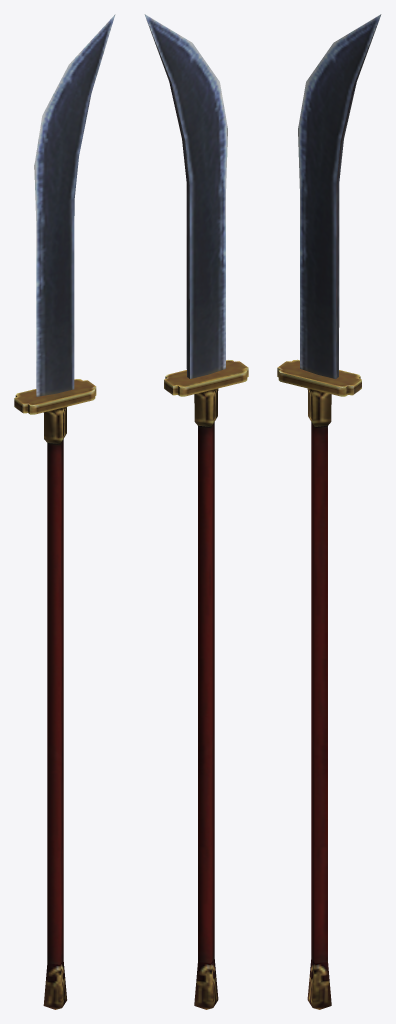
The model's file is Polearm10.FBX.
3 views of the same model, side by side, from view 1: azimuth 30°, elevation 25°; view 2: azimuth 210°, elevation 25°; view 3: azimuth 330°, elevation 25° (orthographic). The views are drawn at different scales.
Parts seen in each view (by area): view 1: Polearm10; view 2: Polearm10; view 3: Polearm10.
Boxes of the visible parts, x1,y1,x2,y2 form: Polearm10: [14, 14, 115, 1009]; Polearm10: [144, 14, 248, 1009]; Polearm10: [277, 14, 381, 1009].
Bounding box in the file's own units: 23.17 × 225 × 7.02.
